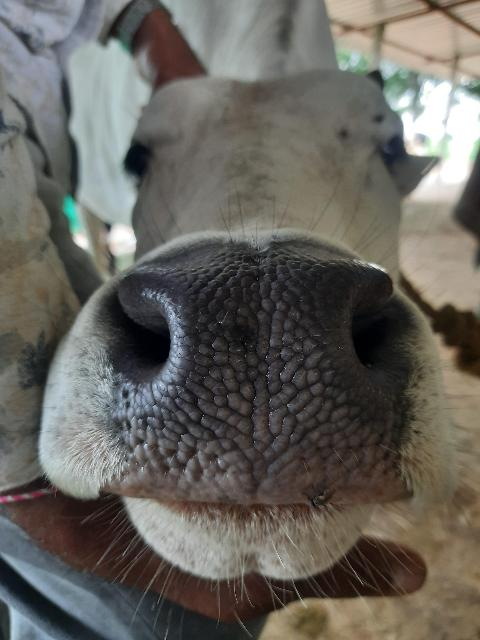Muzzle: (153, 268, 370, 502)
